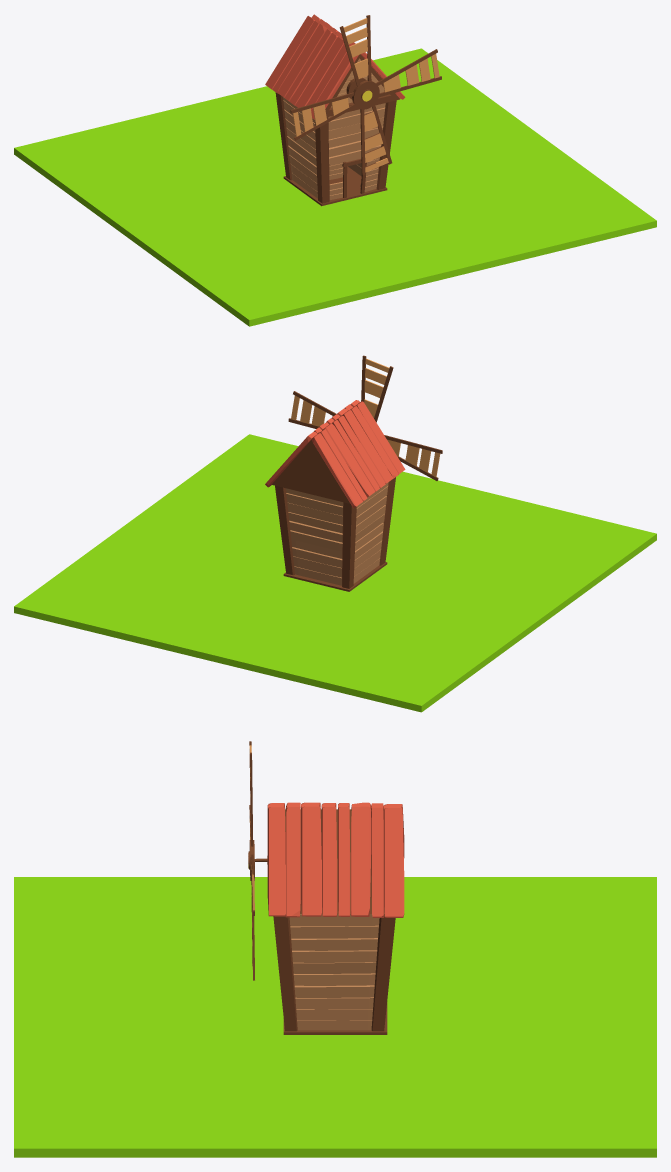
File: windmill.glb
The picture shows the model from 3 angles, top to bottom: view 1: azimuth 30°, elevation 25°; view 2: azimuth 150°, elevation 25°; view 3: azimuth 270°, elevation 25°; orthographic projection. The views are drawn at different scales.
Visible parts, largest first — view 1: Base; view 2: Base; view 3: Base.
Part boxes in pixels (box(x1,y1,x2,y2)): Base: box(14, 14, 656, 326); Base: box(14, 355, 656, 712); Base: box(14, 741, 656, 1157).
Bounding box in the file's own units: 12.38 × 5.73 × 12.38.
